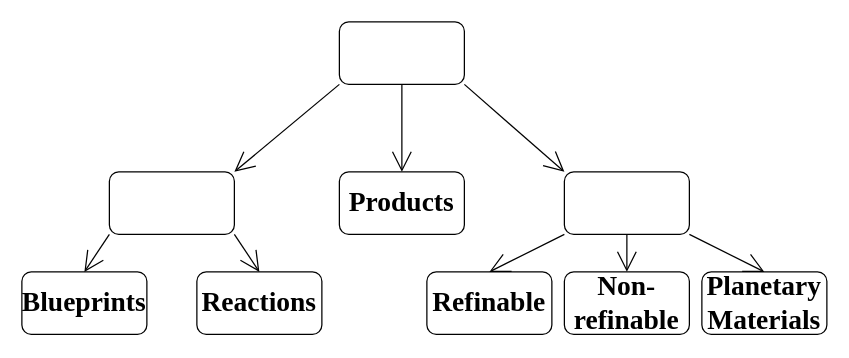
Image size: 849x358. Some labels were removed from this diagram. Each missing label, with the centre of its shape:
"Items" goes at [401,52].
"Materials" goes at [626,202].
"Recipes" goes at [171,202].
